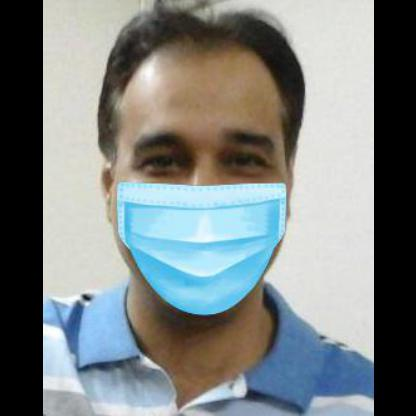Surgical Mask: (102, 81, 292, 318)
